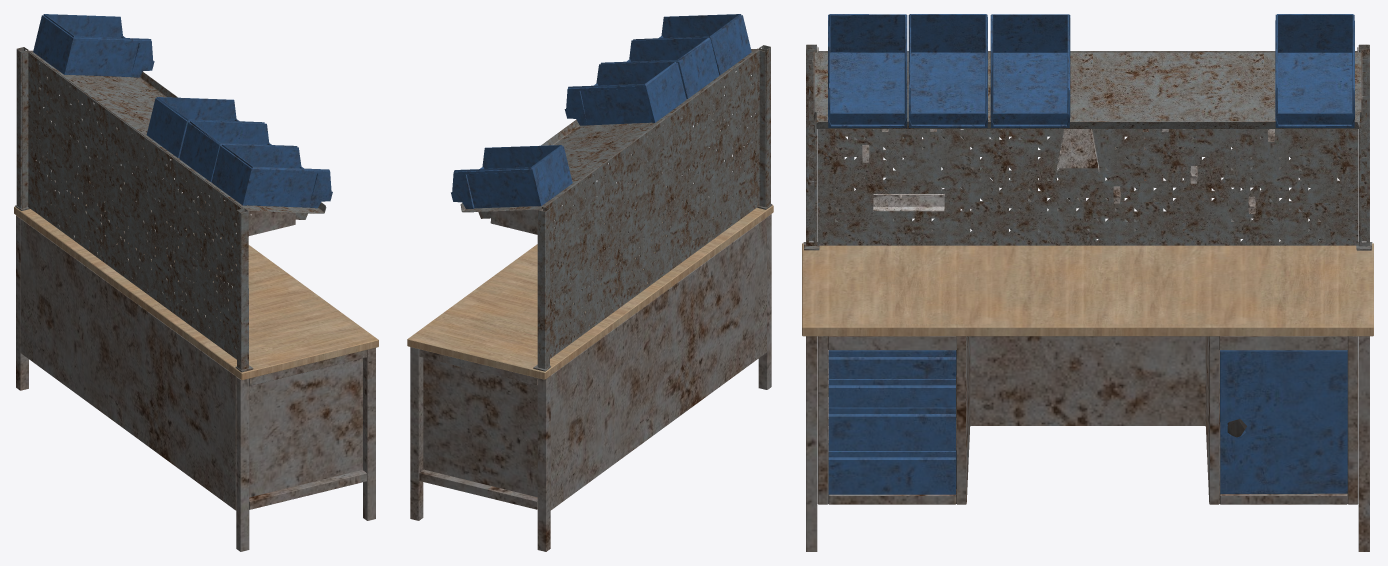
Rendered from shelter_workbench.glb.
3 renders of one model, left to right at view 1: azimuth 30°, elevation 25°; view 2: azimuth 150°, elevation 25°; view 3: azimuth 270°, elevation 25°, orthographic. The views are drawn at different scales.
Parts seen in each view (by area): view 1: shelter_workbench; view 2: shelter_workbench; view 3: shelter_workbench.
Boxes of the visible parts, x1,y1,x2,y2 form: shelter_workbench: [14, 14, 378, 551]; shelter_workbench: [407, 14, 773, 551]; shelter_workbench: [802, 14, 1373, 551].
Bounding box in the file's own units: 0.5331 × 1.38 × 1.53.
Materials: 6 (6 with a texture image).
